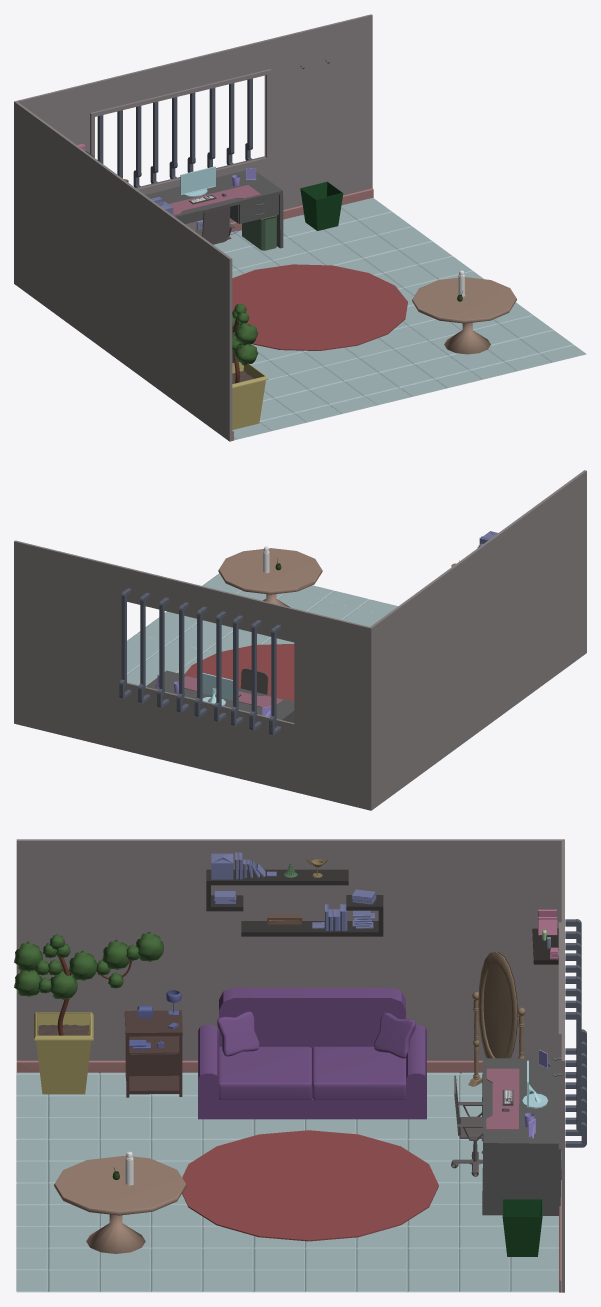
Rendered from DioramaFinalizado.fbx.
3 renders of one model, top to bottom at view 1: azimuth 30°, elevation 25°; view 2: azimuth 150°, elevation 25°; view 3: azimuth 270°, elevation 25°, orthographic. The views are drawn at different scales.
Parts seen in each view (by area): view 1: pCube4, pCube462, pDisc8, pSphere35, pCube466, pCube23, pCube464, pCube455, pSphere33, pCylinder35, pCube207, pCube86 (+2 smaller); view 2: pCube4, pCube462, pCube466, pSphere35, pDisc8, pCube23, pCube81, pCube86, pCylinder35; view 3: pCube4, pCube462, pCube459, pDisc8, pCube23, pSphere35, pSphere33, pCube467, pCube19, pCube281, pCube464, pCube466 (+6 smaller).
Boxes of the visible parts, bbox=[...] form: pCube4: bbox=[14, 14, 372, 441]; pCube462: bbox=[213, 198, 586, 440]; pDisc8: bbox=[232, 264, 407, 350]; pSphere35: bbox=[412, 277, 516, 354]; pCube466: bbox=[97, 78, 252, 187]; pCube23: bbox=[145, 170, 283, 248]; pCube464: bbox=[232, 362, 268, 429]; pCube455: bbox=[300, 181, 343, 230]; pSphere33: bbox=[232, 303, 258, 365]; pCylinder35: bbox=[195, 204, 235, 244]; pCube207: bbox=[242, 215, 276, 250]; pCube86: bbox=[169, 185, 260, 215]; pCube4: bbox=[14, 470, 586, 810]; pCube462: bbox=[127, 573, 397, 685]; pCube466: bbox=[119, 588, 281, 735]; pSphere35: bbox=[218, 548, 322, 607]; pDisc8: bbox=[184, 644, 294, 701]; pCube23: bbox=[145, 670, 294, 722]; pCube81: bbox=[202, 673, 232, 705]; pCube86: bbox=[184, 676, 283, 707]; pCylinder35: bbox=[240, 668, 268, 694]; pCube4: bbox=[16, 839, 564, 1292]; pCube462: bbox=[16, 1072, 561, 1292]; pCube459: bbox=[198, 987, 426, 1119]; pDisc8: bbox=[182, 1130, 438, 1241]; pCube23: bbox=[481, 1058, 561, 1215]; pSphere35: bbox=[54, 1155, 186, 1253]; pSphere33: bbox=[14, 931, 163, 999]; pCube467: bbox=[206, 869, 383, 936]; pCube19: bbox=[124, 1010, 182, 1097]; pCube281: bbox=[468, 952, 525, 1086]; pCube464: bbox=[34, 1012, 93, 1094]; pCube466: bbox=[565, 919, 586, 1147].
Size of the model in its own units: 15.83 by 7.72 by 17.29.
